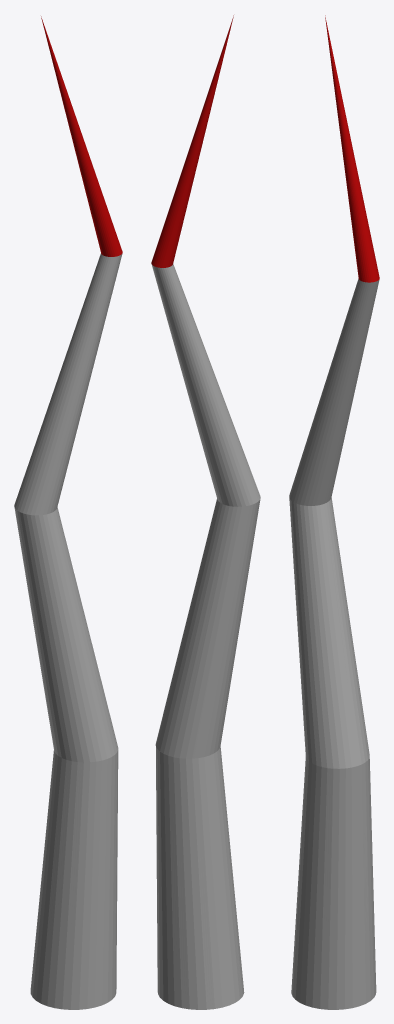
File: Spine.fbx
3 renders of one model, left to right at view 1: azimuth 30°, elevation 25°; view 2: azimuth 210°, elevation 25°; view 3: azimuth 330°, elevation 25°, orthographic.
Visible parts, largest first — view 1: Cube; view 2: Cube; view 3: Cube.
Part boxes in pixels (x1,y1,x2,y2): Cube: (14, 16, 122, 1009); Cube: (151, 15, 260, 1009); Cube: (289, 15, 379, 1009).
Bounding box in the file's own units: 10.27 × 99.87 × 8.
